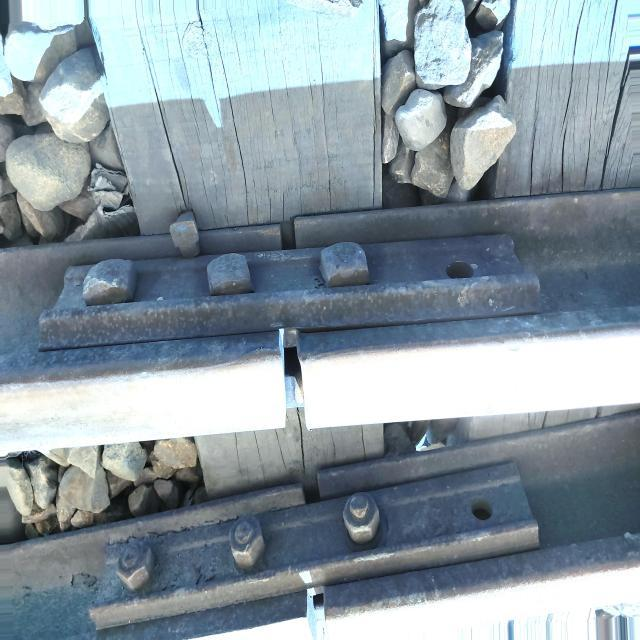Defective Joint: (88, 463, 539, 631), (38, 235, 540, 351)
